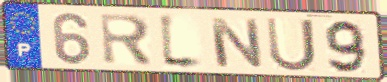6: (50, 10, 93, 67)
9: (322, 18, 370, 74)
L: (157, 10, 208, 72)
N: (207, 16, 266, 70)
R: (97, 11, 155, 68)
U: (264, 16, 319, 73)
